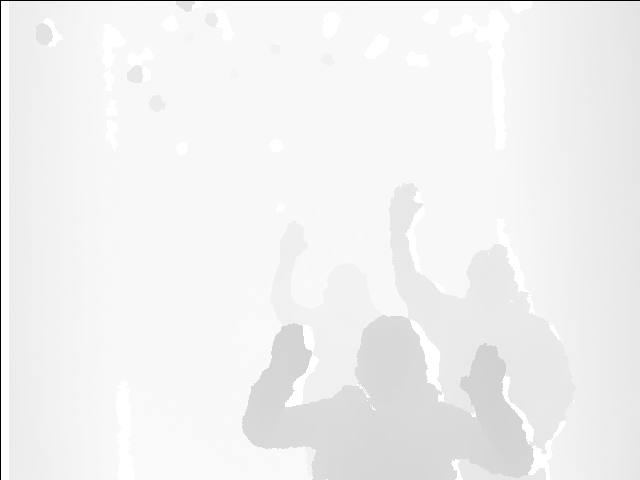hand: (386, 178, 424, 234), (279, 218, 309, 257)
